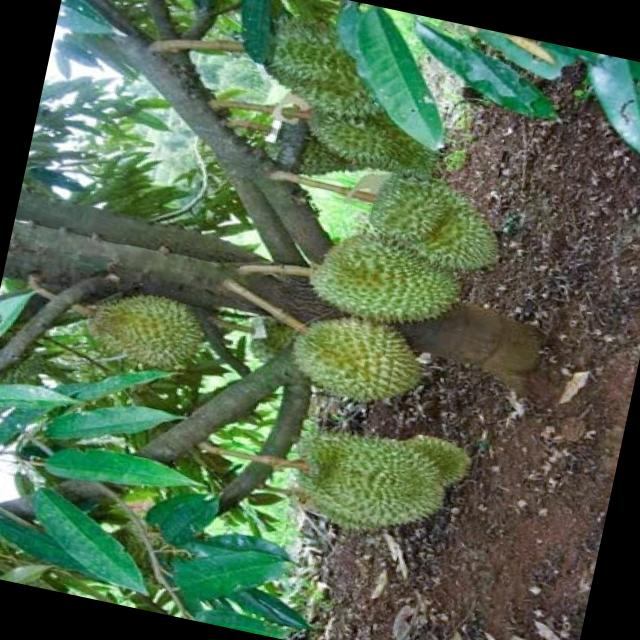Sau Rieng: (284, 420, 461, 532), (304, 222, 458, 328), (358, 167, 504, 274), (280, 303, 418, 411), (260, 10, 390, 120), (82, 282, 209, 376), (304, 94, 437, 178), (294, 474, 398, 535), (404, 432, 472, 487), (0, 342, 54, 390), (244, 316, 294, 364)
